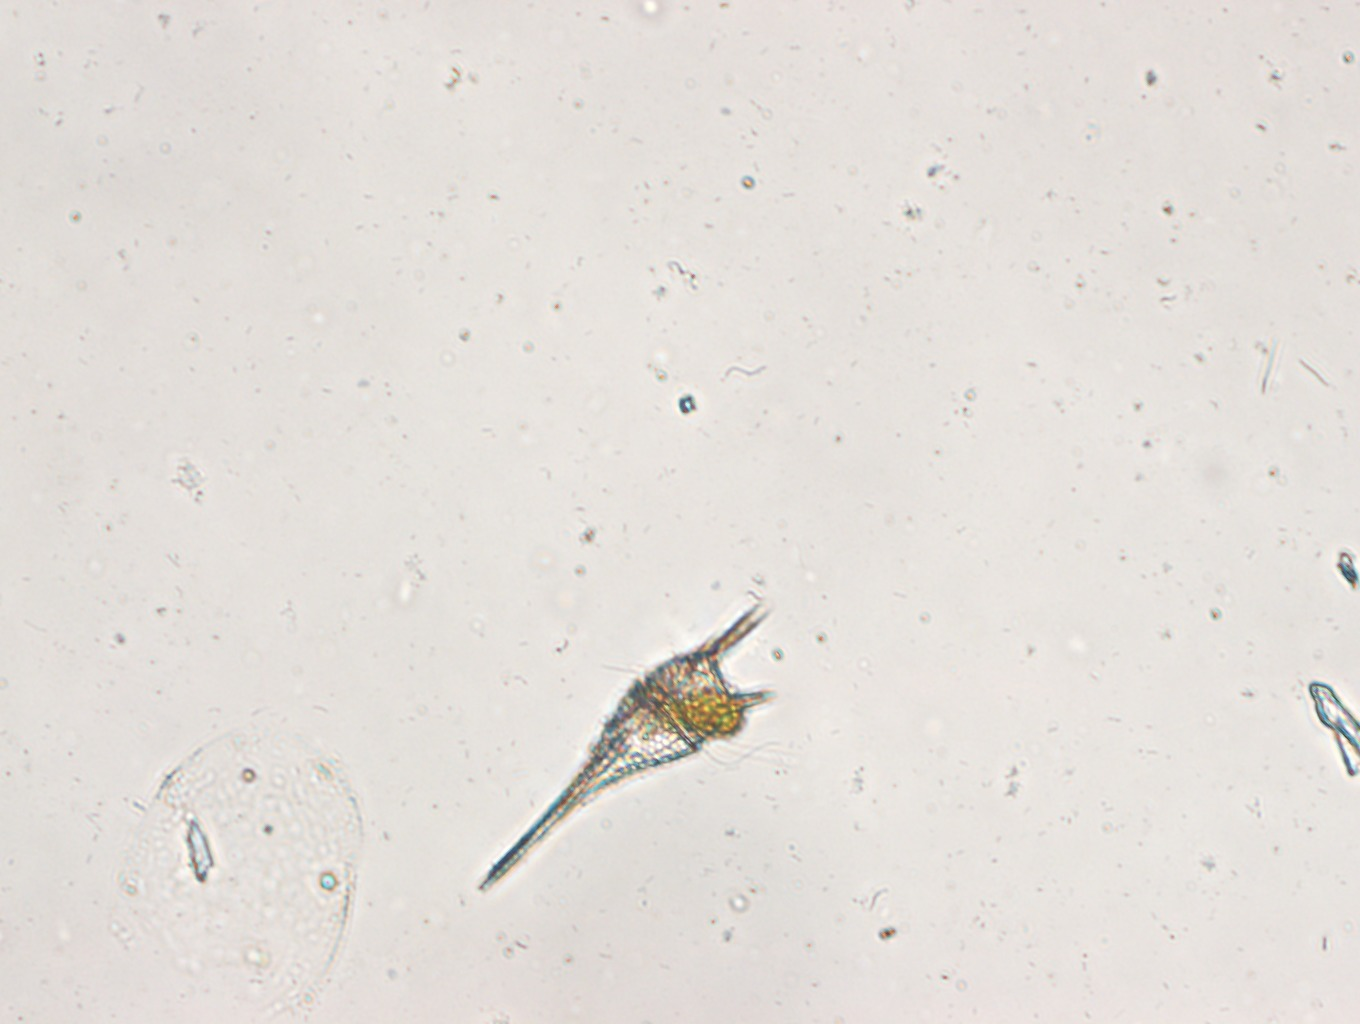ceratium furca: (479, 594, 785, 894)
